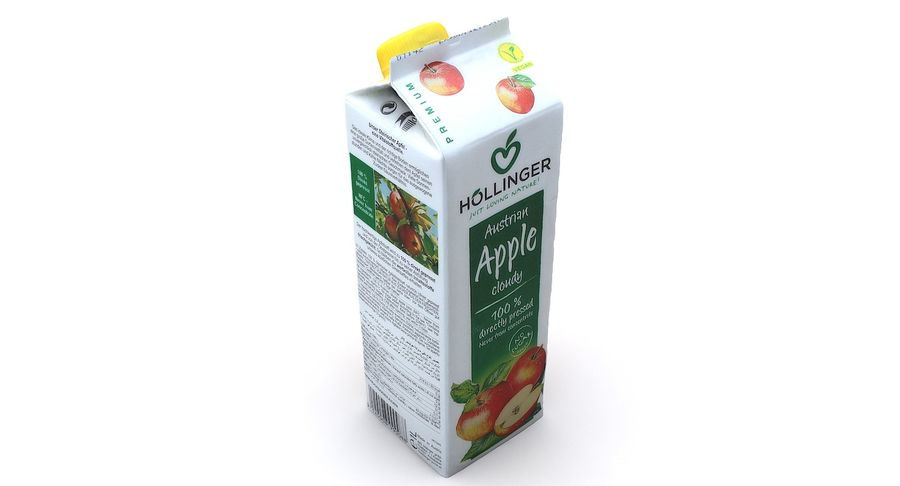carton: (332, 11, 584, 486)
